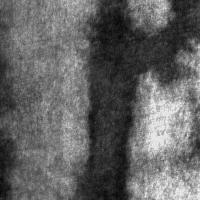patches: (72, 1, 144, 199), (0, 0, 90, 85), (4, 123, 96, 200), (146, 1, 200, 83), (47, 43, 109, 105)
